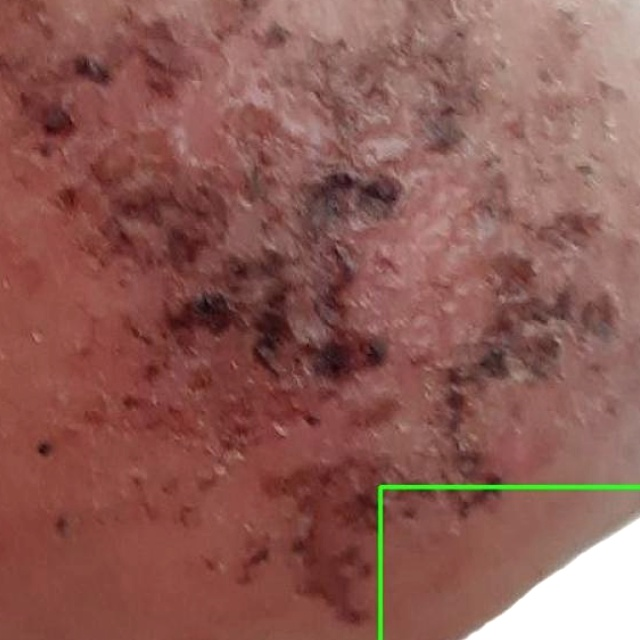Contact Dermatitis: (379, 488, 639, 639)
